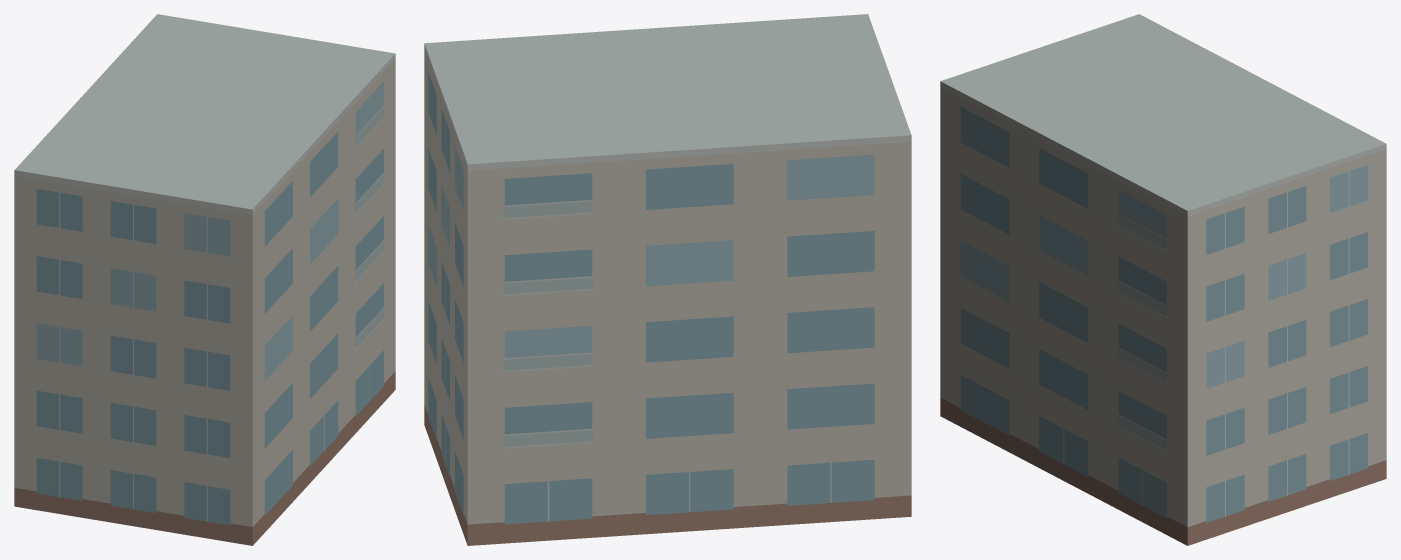
The model's file is survey-upis-32739247.glb.
The picture shows the model from 3 angles, left to right: view 1: azimuth 30°, elevation 25°; view 2: azimuth 150°, elevation 25°; view 3: azimuth 270°, elevation 25°; orthographic projection. The views are drawn at different scales.
Visible parts, largest first — view 1: survey-upis-32739247.tmp; view 2: survey-upis-32739247.tmp; view 3: survey-upis-32739247.tmp.
Part boxes in pixels (bbox=[...]): survey-upis-32739247.tmp: bbox=[14, 14, 395, 545]; survey-upis-32739247.tmp: bbox=[424, 14, 911, 545]; survey-upis-32739247.tmp: bbox=[940, 14, 1386, 545].
Size of the model in its own units: 18.42 by 14.6 by 17.64.
